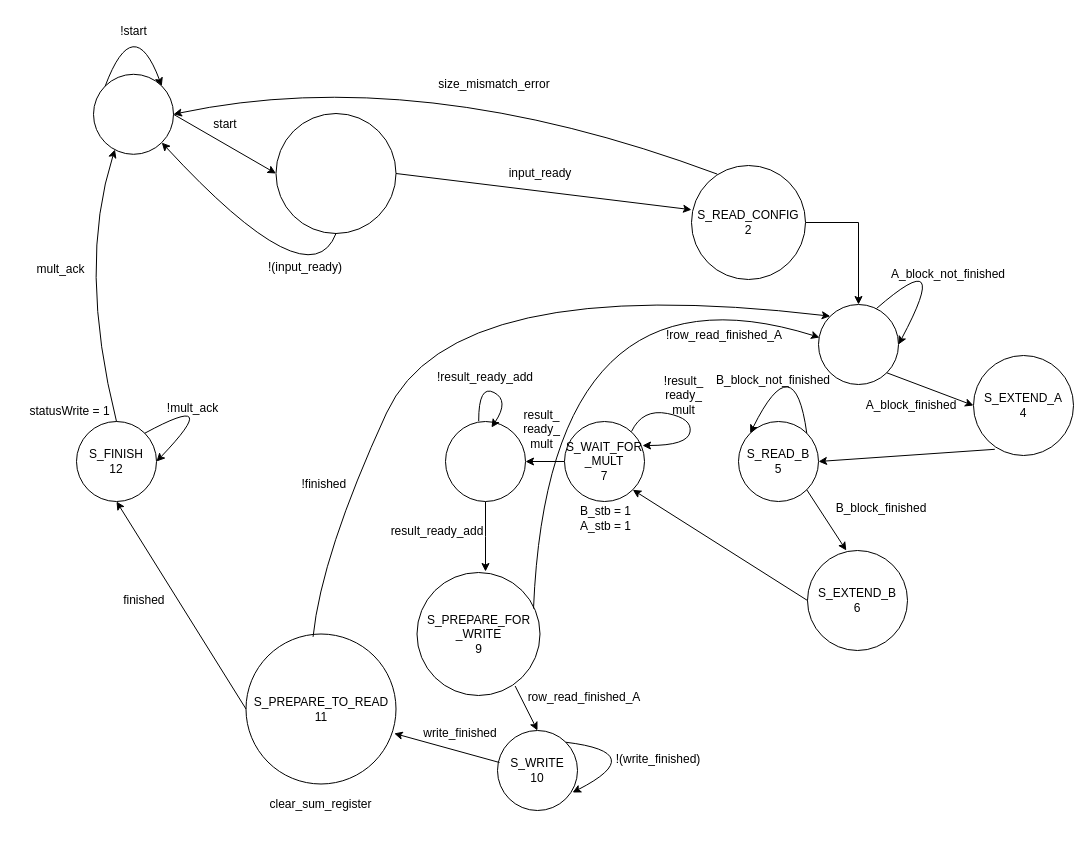
This 1091x842 diagram has some shape labels left out. Here are the shapes that lost their labels. From the top down, the centre of each, then its label:
point 133,113: S_IDLE 0
point 335,173: S_READ_STATUS 1
point 858,344: S_READ_A 3
point 485,461: S_WAIT_FOR _ADD 8
